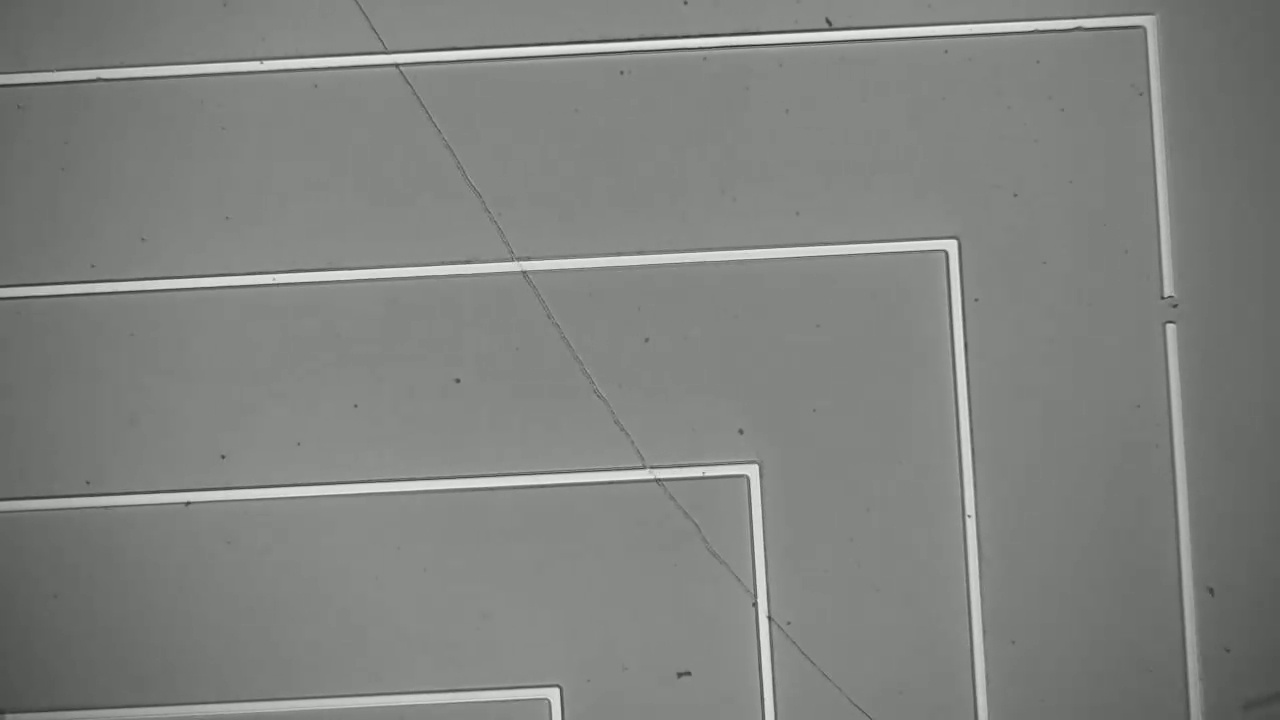open: (1152, 280, 1191, 344)
scratch: (346, 2, 879, 718)
